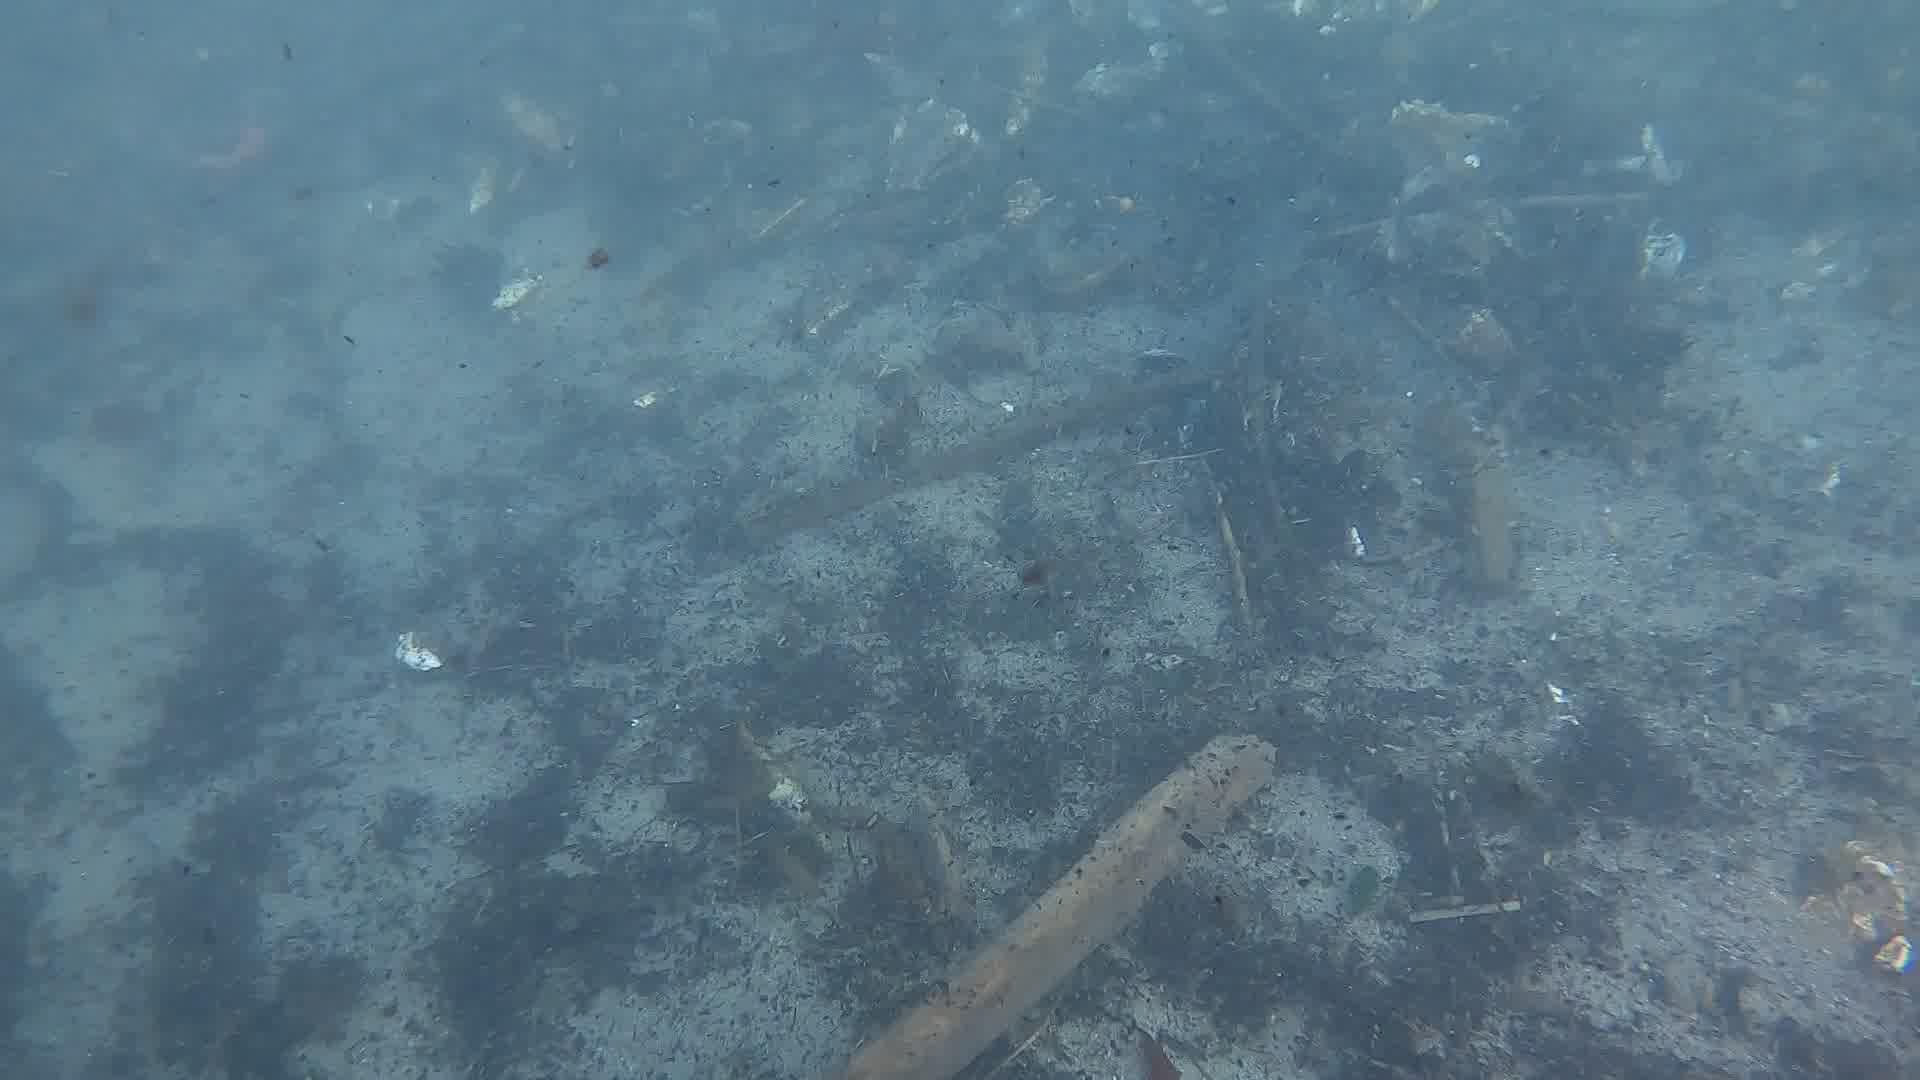wood: (833, 731, 1276, 1080)
